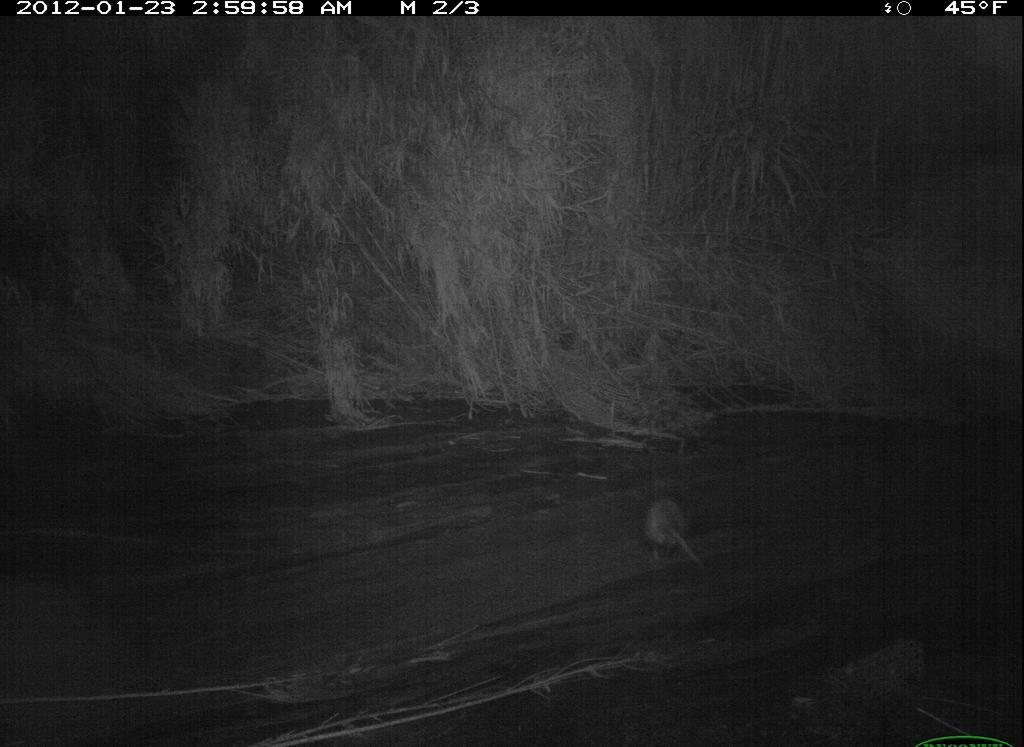opossum: (625, 481, 720, 573)
